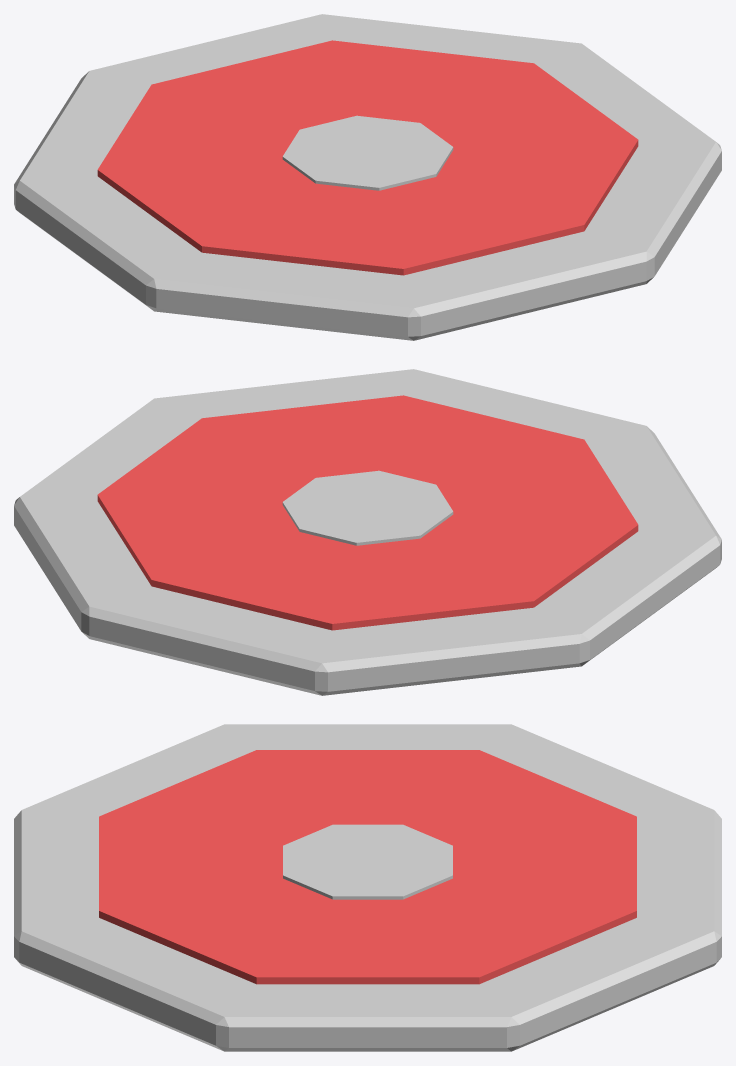
File: spawn_pad.fbx
The picture shows the model from 3 angles, top to bottom: view 1: azimuth 30°, elevation 25°; view 2: azimuth 150°, elevation 25°; view 3: azimuth 270°, elevation 25°; orthographic projection. The views are drawn at different scales.
Visible parts, largest first — view 1: Cylinder.001, Cylinder, Cylinder.002; view 2: Cylinder.001, Cylinder, Cylinder.002; view 3: Cylinder.001, Cylinder, Cylinder.002.
Part boxes in pixels (bbox=[...]): Cylinder.001: bbox=[97, 40, 638, 275]; Cylinder: bbox=[14, 14, 721, 340]; Cylinder.002: bbox=[282, 115, 453, 190]; Cylinder.001: bbox=[97, 395, 638, 630]; Cylinder: bbox=[14, 369, 721, 695]; Cylinder.002: bbox=[282, 470, 453, 545]; Cylinder.001: bbox=[99, 750, 636, 984]; Cylinder: bbox=[14, 724, 721, 1051]; Cylinder.002: bbox=[283, 824, 452, 899].
Size of the model in its own units: 9.24 by 0.65 by 9.24.
